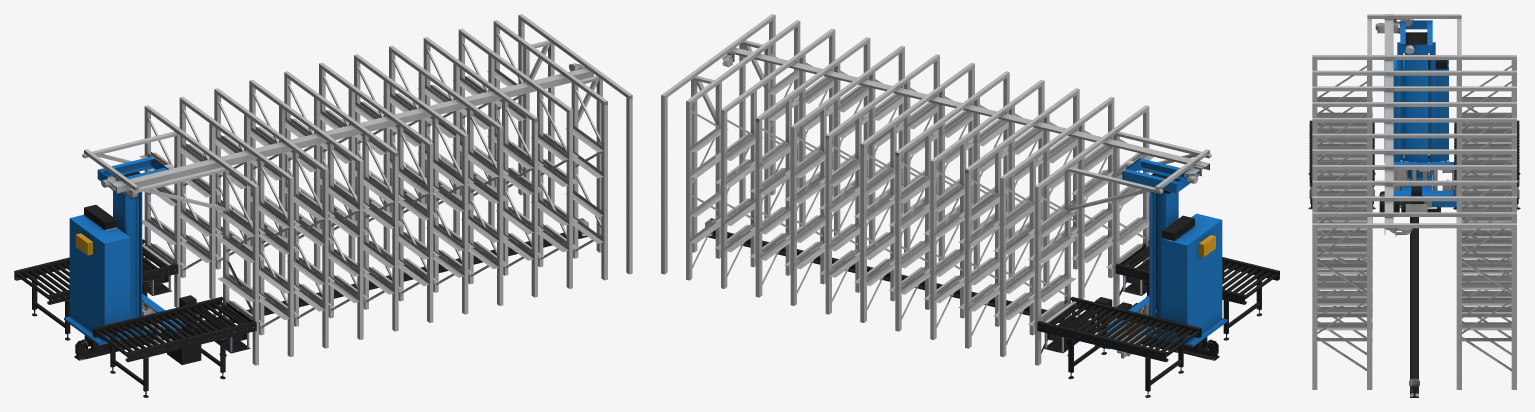
File: LitiCangku.fbx
3 renders of one model, left to right at view 1: azimuth 30°, elevation 25°; view 2: azimuth 150°, elevation 25°; view 3: azimuth 270°, elevation 25°, orthographic. The views are drawn at different scales.
Parts seen in each view (by area): view 1: LitiCangku; view 2: LitiCangku; view 3: LitiCangku.
Part boxes in pixels (box(x1,y1,x2,y2)): LitiCangku: box(14, 14, 632, 397); LitiCangku: box(661, 14, 1279, 397); LitiCangku: box(1308, 14, 1520, 397).
Size of the model in its own units: 2108 by 712 by 812.
